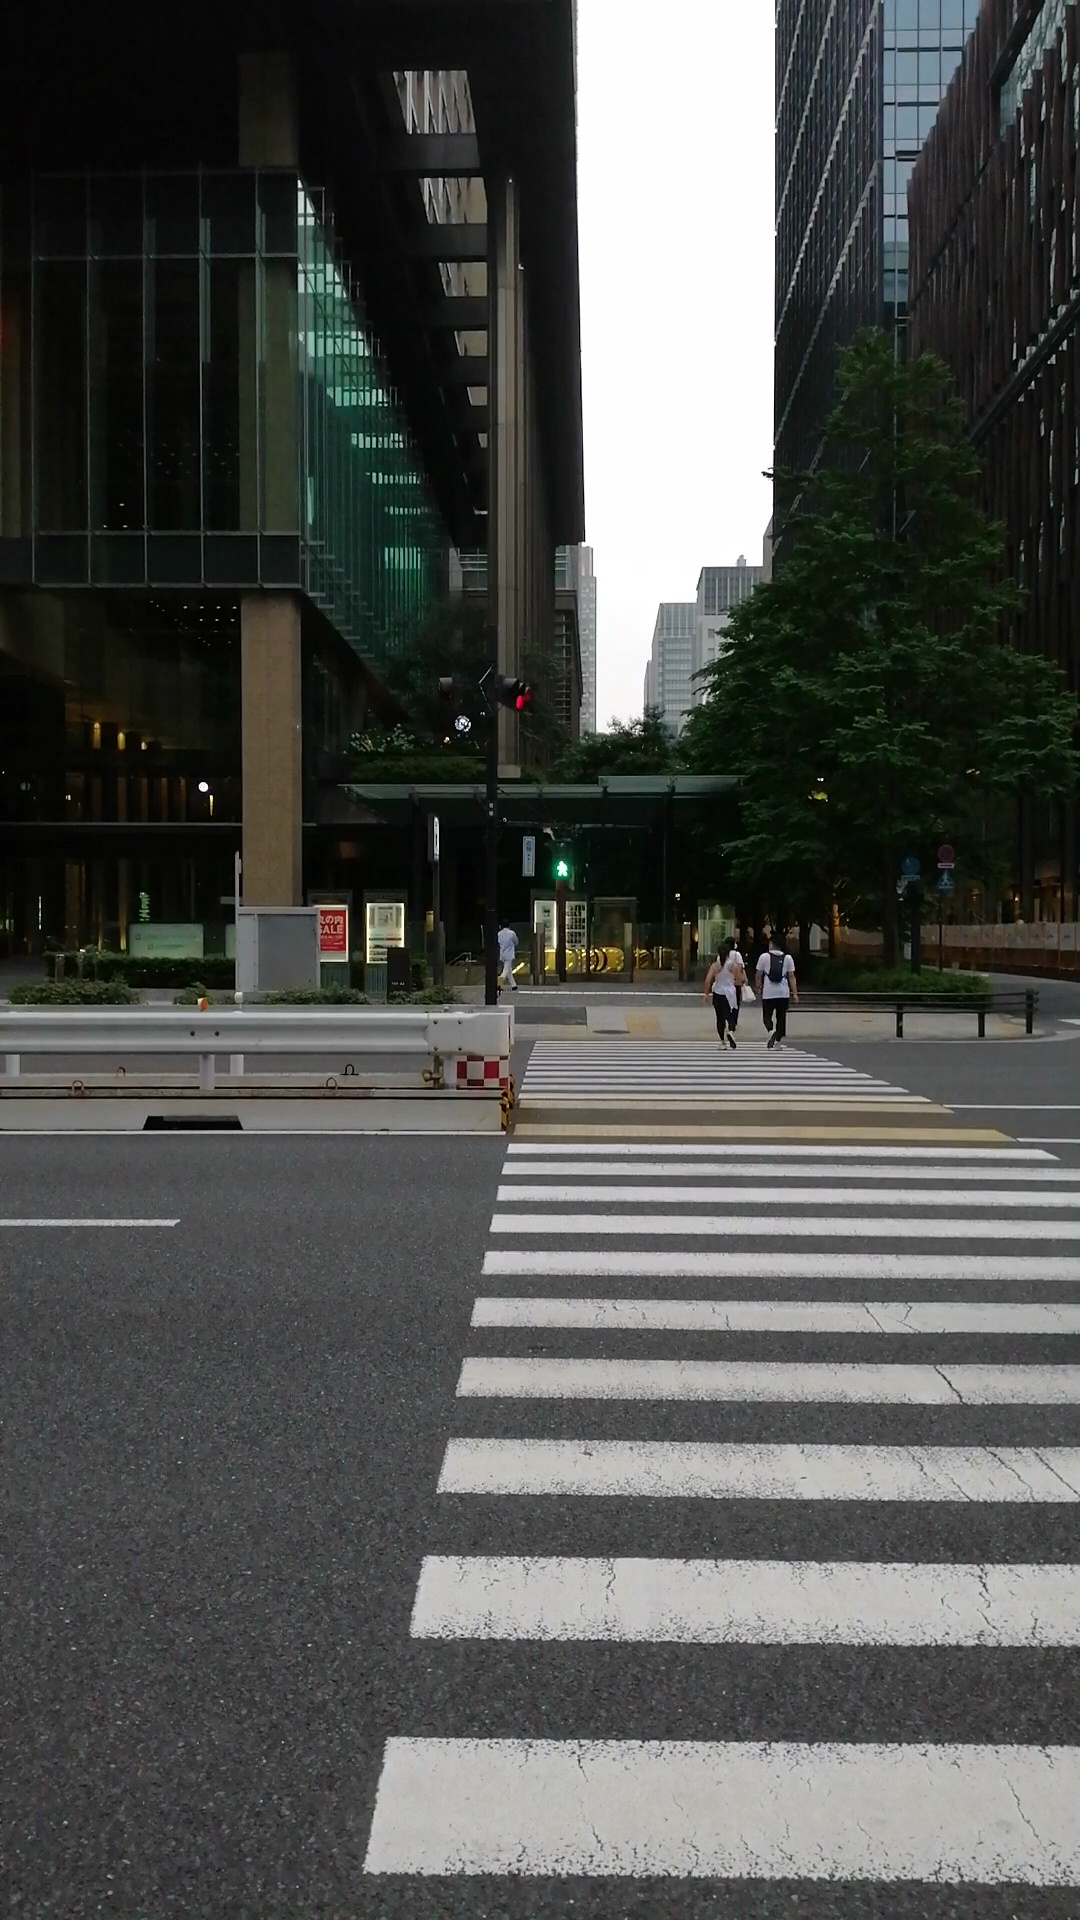green: (545, 837, 575, 884)
